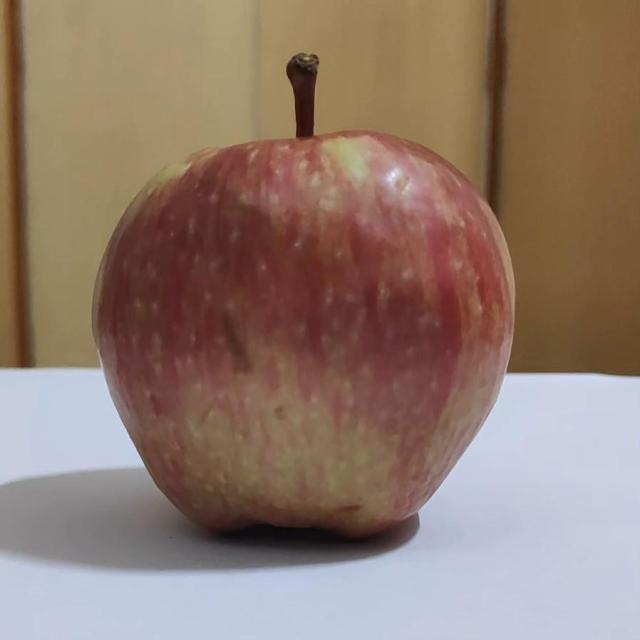Apple: (93, 53, 515, 537)
